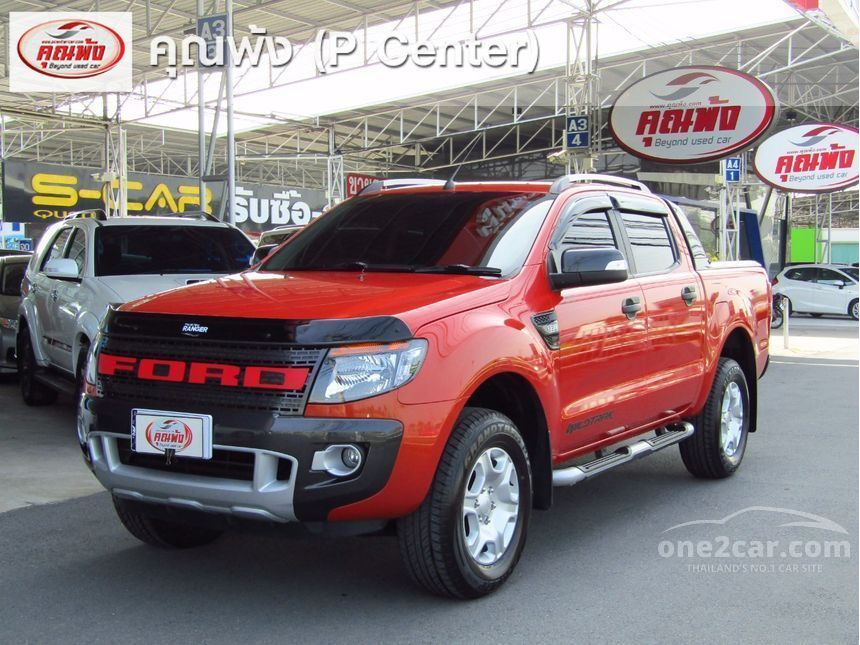pickup: (82, 172, 777, 601)
